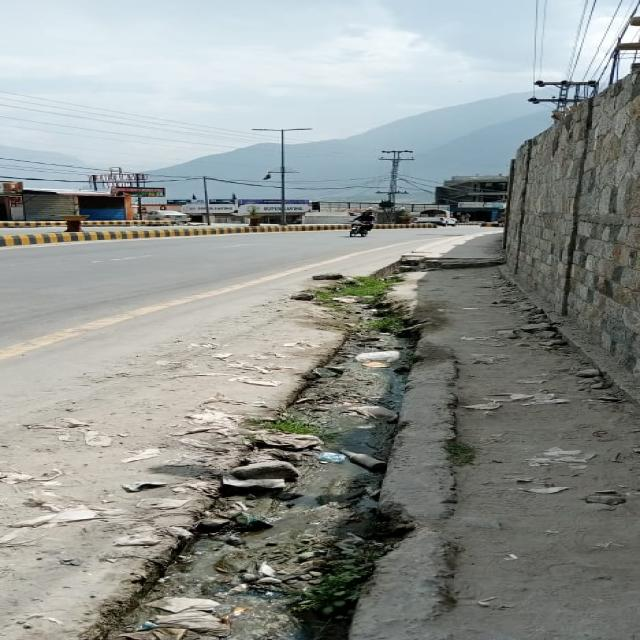Right-Turn: (377, 218, 498, 278)
